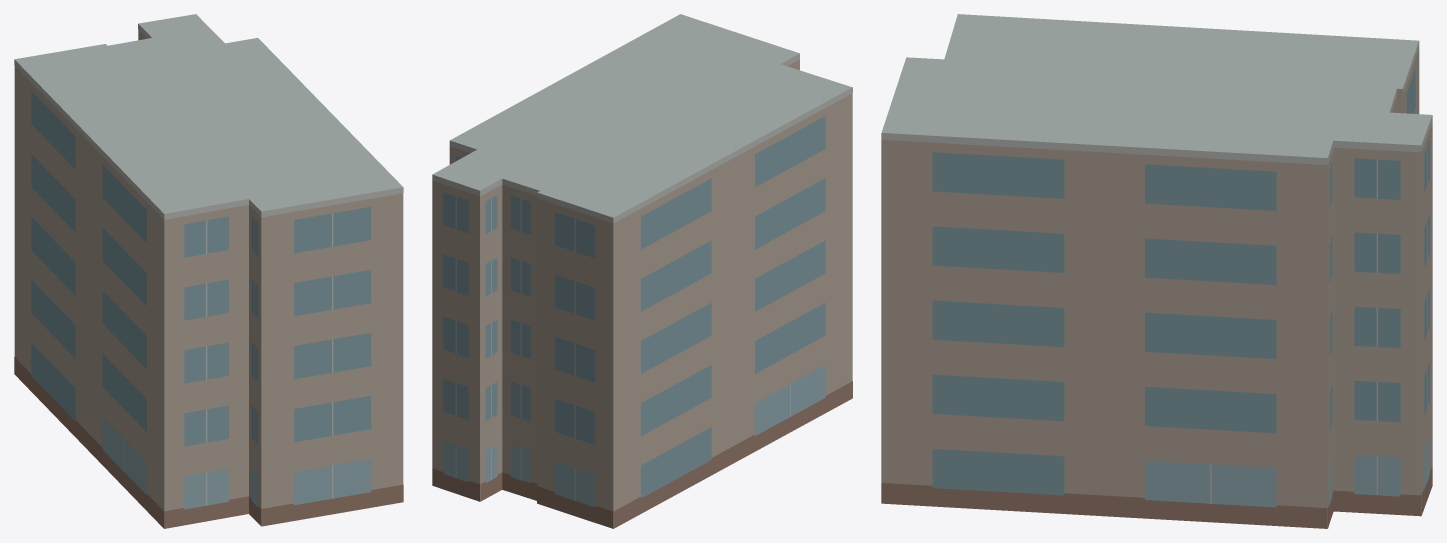
File: survey-upis-32926018.glb
3 renders of one model, left to right at view 1: azimuth 30°, elevation 25°; view 2: azimuth 150°, elevation 25°; view 3: azimuth 270°, elevation 25°, orthographic. The views are drawn at different scales.
Visible parts, largest first — view 1: survey-upis-32926018.tmp; view 2: survey-upis-32926018.tmp; view 3: survey-upis-32926018.tmp.
Boxes of the visible parts, x1=… form: survey-upis-32926018.tmp: x1=14, y1=14, x2=403, y2=528; survey-upis-32926018.tmp: x1=432, y1=14, x2=852, y2=528; survey-upis-32926018.tmp: x1=881, y1=14, x2=1432, y2=528.
Bounding box in the file's own units: 10.94 × 13.1 × 17.66.
